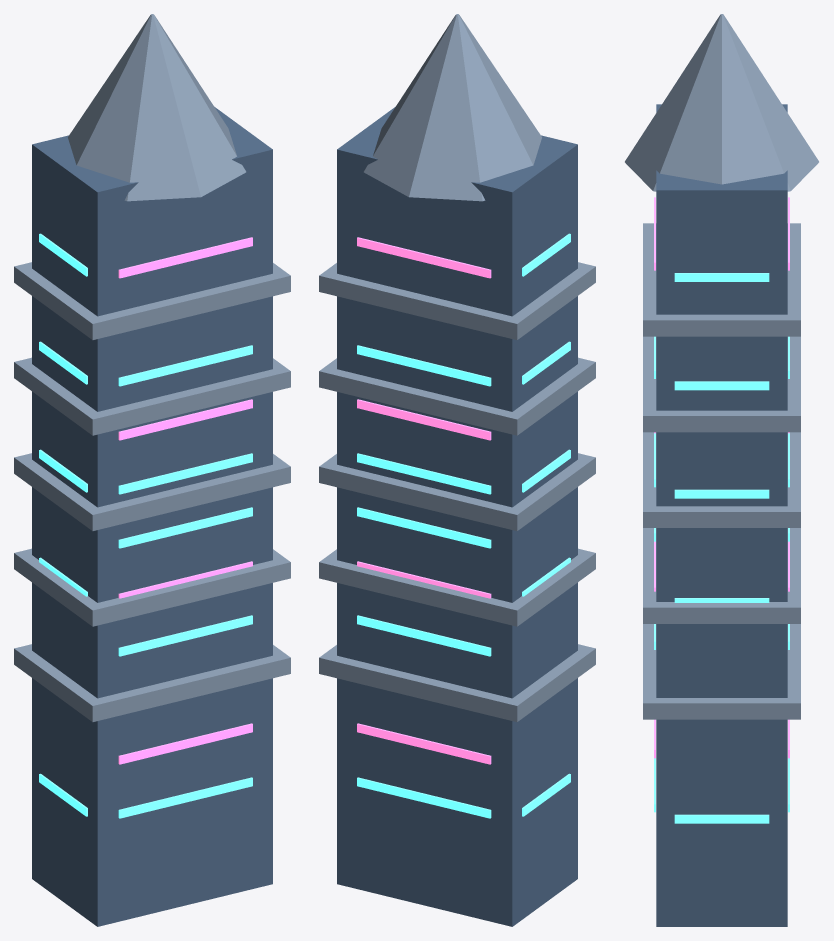
The model's file is 01_spire.glb.
3 renders of one model, left to right at view 1: azimuth 30°, elevation 25°; view 2: azimuth 150°, elevation 25°; view 3: azimuth 270°, elevation 25°, orthographic.
Parts seen in each view (by area): view 1: skyline_spire_structure, skyline_spire_spire_tip, skyline_spire_spire_belt_0, skyline_spire_spire_belt_2, skyline_spire_spire_belt_4, skyline_spire_spire_belt_3, skyline_spire_spire_belt_1, skyline_spire_window_10_-1_nocol, skyline_spire_window_5_-1_nocol, skyline_spire_window_7_-1_nocol, skyline_spire_window_8_-1_nocol, skyline_spire_window_9_-1_nocol (+4 smaller); view 2: skyline_spire_structure, skyline_spire_spire_tip, skyline_spire_spire_belt_0, skyline_spire_spire_belt_2, skyline_spire_spire_belt_4, skyline_spire_spire_belt_3, skyline_spire_spire_belt_1, skyline_spire_window_10_1_nocol, skyline_spire_window_5_1_nocol, skyline_spire_window_7_1_nocol, skyline_spire_window_8_1_nocol, skyline_spire_window_9_1_nocol (+4 smaller); view 3: skyline_spire_structure, skyline_spire_spire_tip, skyline_spire_spire_belt_4, skyline_spire_spire_belt_3, skyline_spire_spire_belt_0, skyline_spire_spire_belt_2, skyline_spire_spire_belt_1, skyline_spire_sidewindow_10_1_nocol, skyline_spire_sidewindow_2_1_nocol, skyline_spire_sidewindow_8_1_nocol, skyline_spire_sidewindow_12_1_nocol, skyline_spire_sidewindow_6_1_nocol.
Part boxes in pixels (x1,y1,x2,y2): skyline_spire_structure: [32, 106, 272, 926]; skyline_spire_spire_tip: [68, 14, 246, 201]; skyline_spire_spire_belt_0: [14, 644, 290, 721]; skyline_spire_spire_belt_2: [14, 453, 290, 530]; skyline_spire_spire_belt_4: [14, 262, 290, 339]; skyline_spire_spire_belt_3: [14, 357, 290, 435]; skyline_spire_spire_belt_1: [14, 548, 290, 626]; skyline_spire_window_10_-1_nocol: [118, 345, 252, 386]; skyline_spire_window_5_-1_nocol: [118, 615, 252, 656]; skyline_spire_window_7_-1_nocol: [118, 507, 252, 548]; skyline_spire_window_8_-1_nocol: [118, 453, 252, 494]; skyline_spire_window_9_-1_nocol: [118, 399, 252, 440]; skyline_spire_structure: [337, 106, 577, 926]; skyline_spire_spire_tip: [363, 14, 541, 201]; skyline_spire_spire_belt_0: [319, 644, 595, 721]; skyline_spire_spire_belt_2: [319, 453, 595, 530]; skyline_spire_spire_belt_4: [319, 262, 595, 339]; skyline_spire_spire_belt_3: [319, 357, 595, 435]; skyline_spire_spire_belt_1: [319, 548, 595, 626]; skyline_spire_window_10_1_nocol: [357, 345, 491, 386]; skyline_spire_window_5_1_nocol: [357, 615, 491, 656]; skyline_spire_window_7_1_nocol: [357, 507, 491, 548]; skyline_spire_window_8_1_nocol: [357, 453, 491, 494]; skyline_spire_window_9_1_nocol: [357, 399, 491, 440]; skyline_spire_structure: [656, 104, 787, 926]; skyline_spire_spire_tip: [625, 14, 818, 191]; skyline_spire_spire_belt_4: [643, 223, 800, 336]; skyline_spire_spire_belt_3: [643, 336, 800, 432]; skyline_spire_spire_belt_0: [643, 624, 800, 719]; skyline_spire_spire_belt_2: [643, 432, 800, 527]; skyline_spire_spire_belt_1: [643, 528, 800, 623]; skyline_spire_sidewindow_10_1_nocol: [674, 381, 769, 390]; skyline_spire_sidewindow_2_1_nocol: [674, 814, 769, 823]; skyline_spire_sidewindow_8_1_nocol: [674, 489, 769, 498]; skyline_spire_sidewindow_12_1_nocol: [674, 273, 769, 281]; skyline_spire_sidewindow_6_1_nocol: [674, 598, 769, 602].
Bounding box in the file's own units: 19.2 × 80.24 × 16.32.
